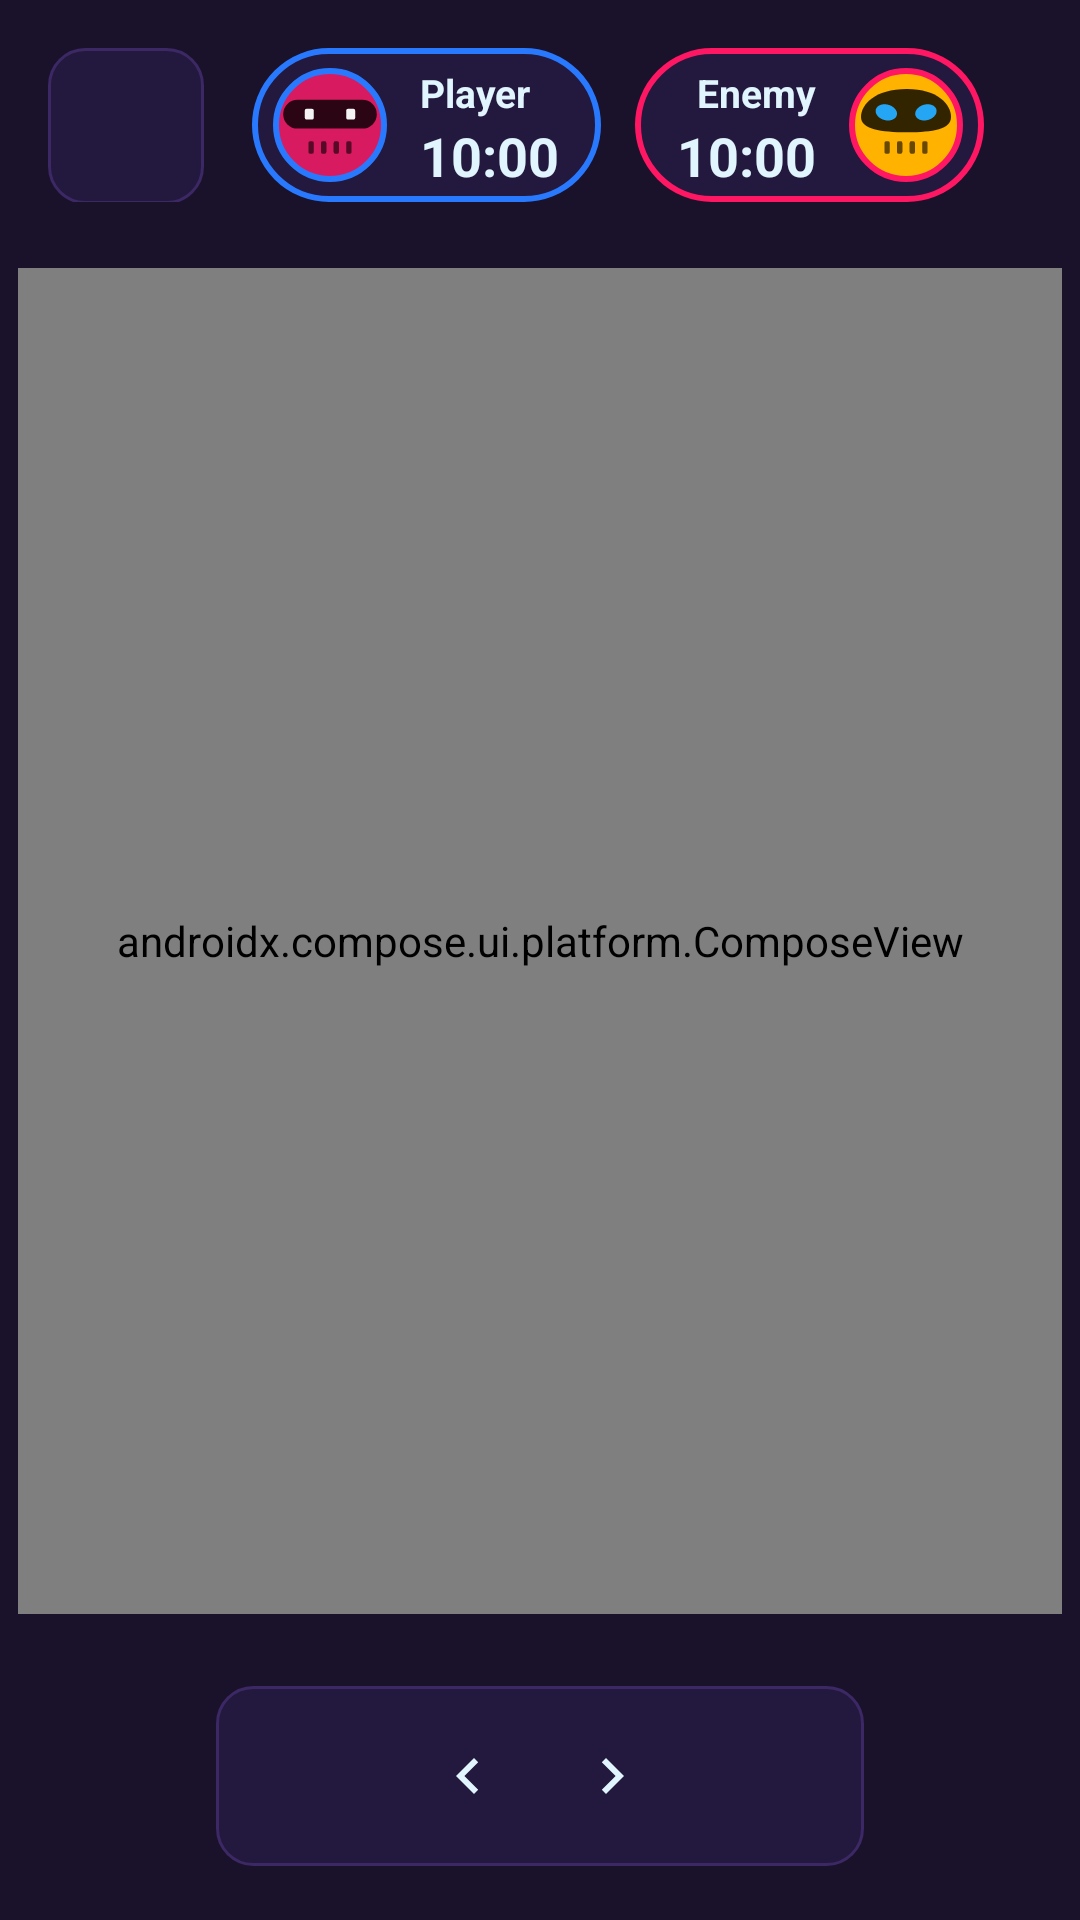

Screen size 1080 x 1920. Icon name, then its center in pixels as [x,y]:
Anterior: [467,1776]
bot: [330,125], [906,125]
